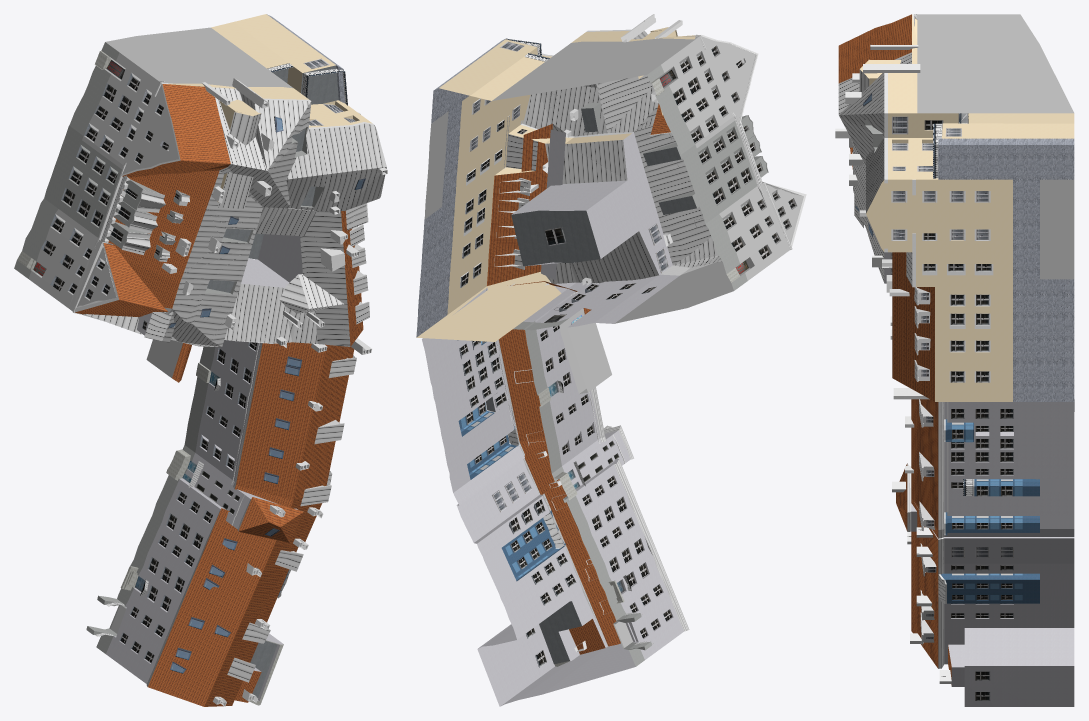
File: Pikk_54-origo.obj
The picture shows the model from 3 angles, left to right: view 1: azimuth 30°, elevation 25°; view 2: azimuth 150°, elevation 25°; view 3: azimuth 270°, elevation 25°; orthographic projection. The views are drawn at different scales.
Parts seen in each view (by area): view 1: pikk54, xxx; view 2: pikk54, xxx; view 3: pikk54, xxx.
Boxes of the visible parts, x1,y1,x2,y2 form: pikk54: (14,14,387,706); xxx: (82,27,293,320); pikk54: (416,14,806,706); xxx: (424,38,733,393); pikk54: (835,14,1074,706); xxx: (917,14,1074,279).
Size of the model in its own units: 40.62 by 85.5 by 29.18.
